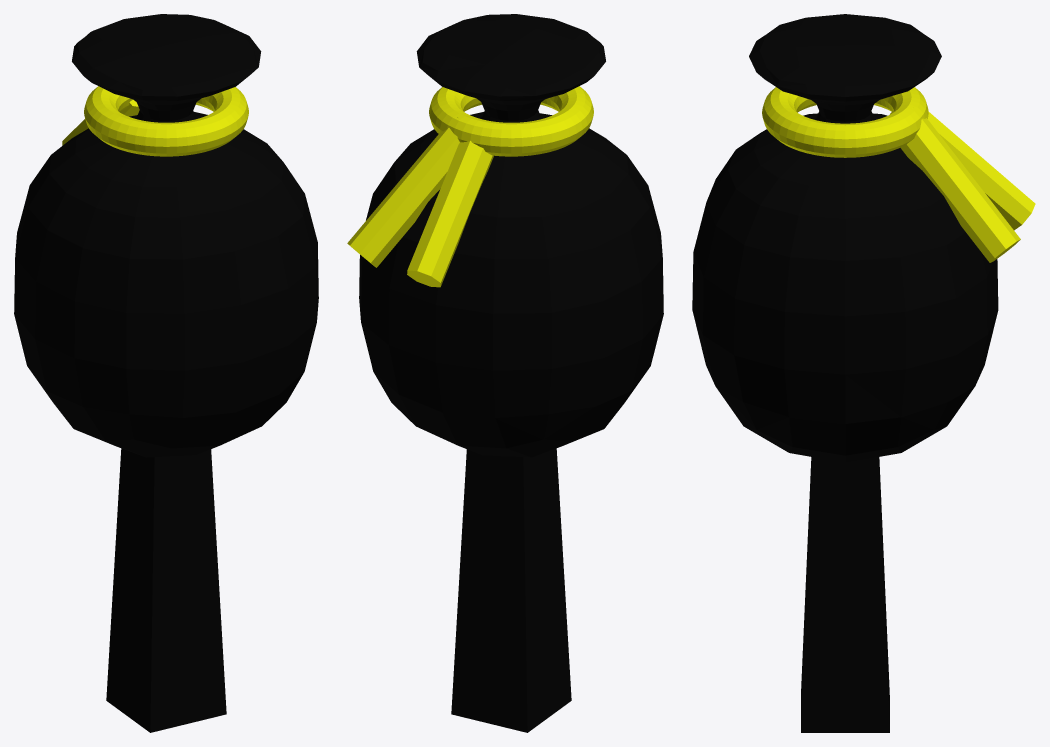
The model's file is кашелек.fbx.
3 renders of one model, left to right at view 1: azimuth 30°, elevation 25°; view 2: azimuth 150°, elevation 25°; view 3: azimuth 270°, elevation 25°, orthographic.
Parts seen in each view (by area): view 1: Cube.001, Cube, Torus; view 2: Cube.001, Cube, Torus, Cylinder, Cylinder.001; view 3: Cube.001, Cube, Torus, Cylinder.001, Cylinder.
Boxes of the visible parts, <box> form: Cube.001: <box>14,14,318,457</box>; Cube: <box>106,448,226,732</box>; Torus: <box>84,86,248,156</box>; Cube.001: <box>359,14,663,457</box>; Cube: <box>451,448,571,732</box>; Torus: <box>429,86,593,156</box>; Cylinder: <box>407,140,493,287</box>; Cylinder.001: <box>347,117,459,267</box>; Cube.001: <box>692,14,998,462</box>; Cube: <box>801,457,889,732</box>; Torus: <box>762,87,928,157</box>; Cylinder.001: <box>900,107,1020,262</box>; Cylinder: <box>890,110,1035,230</box>.
Bounding box in the file's own units: 125 × 301 × 140.
